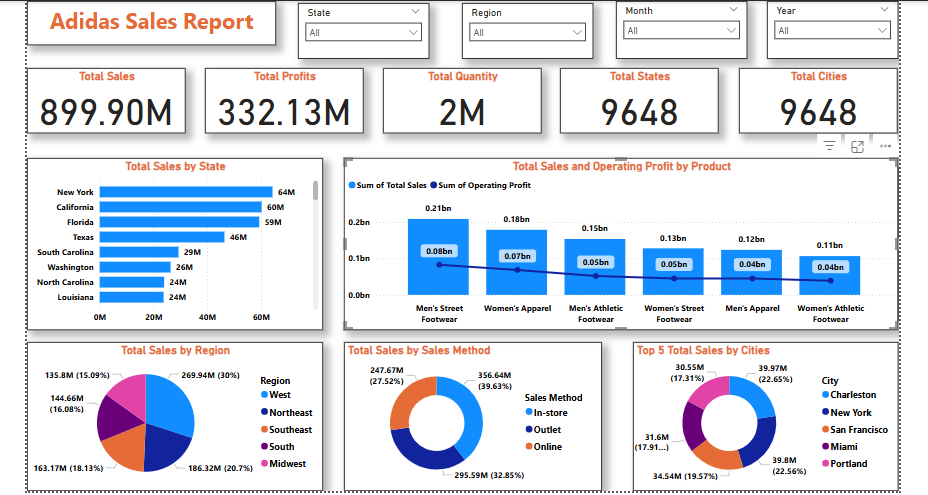

The dashboard page shown, as its layout file describes it:
{"tool":"powerbi","page":{"name":"Adidas Sales Report","canvas":[1280,720],"ordinal":0},"visuals":[{"type":"textbox","box":[0,0,365.8,64.8],"z":0},{"type":"slicer","fields":{"Values":["Table1.State"]},"box":[398.9,2.9,193,82.1],"z":1000},{"type":"slicer","fields":{"Values":["Table1.Region"]},"box":[639.4,2.9,193,82.1],"z":2000},{"type":"slicer","fields":{"Values":["Table1.Invoice Date.Variation.Date Hierarchy.Month"]},"box":[865.4,0,193,85],"z":3000},{"type":"slicer","fields":{"Values":["Table1.Invoice Date.Variation.Date Hierarchy.Year"]},"box":[1087.2,0,193,85],"z":4000},{"type":"card","title":"Total Sales","fields":{"Values":["Sum(Table1.Total Sales)"]},"box":[0,97.9,233.3,96.5],"z":5000},{"type":"card","title":"Total Profits","fields":{"Values":["Sum(Table1.Operating Profit)"]},"box":[262.1,97.9,233.3,96.5],"z":6000},{"type":"card","title":"Total Quantity","fields":{"Values":["Sum(Table1.Units Sold)"]},"box":[522.7,97.9,233.3,96.5],"z":7000},{"type":"card","title":"Total States","fields":{"Values":["CountNonNull(Table1.State)"]},"box":[783.4,97.9,233.3,96.5],"z":8000},{"type":"card","title":"Total Cities","fields":{"Values":["CountNonNull(Table1.City)"]},"box":[1046.9,97.9,233.3,96.5],"z":9000},{"type":"barChart","title":" Total Sales by State","fields":{"Y":["Sum(Table1.Total Sales)"],"Category":["Table1.State"]},"box":[0,230.4,434.9,253.4],"z":10000},{"type":"lineStackedColumnComboChart","title":"Total Sales and Operating Profit by Product","fields":{"Y":["Sum(Table1.Total Sales)"],"Category":["Table1.Product"],"Y2":["Sum(Table1.Operating Profit)"]},"box":[465.1,230.4,815,253.4],"z":11000},{"type":"pieChart","title":"Total Sales by Region","fields":{"Y":["Sum(Table1.Total Sales)"],"Category":["Table1.Region"]},"box":[0,501.1,434.9,218.9],"z":12000},{"type":"donutChart","title":"Total Sales by Sales Method","fields":{"Y":["Sum(Table1.Total Sales)"],"Category":["Table1.Sales Method"]},"box":[465.1,501.1,378.7,218.9],"z":13000},{"type":"donutChart","title":"Top 5 Total Sales by Cities ","fields":{"Y":["Sum(Table1.Total Sales)"],"Category":["Table1.City"]},"box":[889.9,501.1,390.2,218.9],"z":14000}]}

Visuals, with their boxes in screenshot pixels (x1, y1, x2, y2):
textbox: [27, 0, 275, 44]
slicer - Table1.State: [297, 2, 428, 58]
slicer - Table1.Region: [460, 2, 591, 58]
slicer - Table1.Invoice Date.Variation.Date Hierarchy.Month: [614, 0, 745, 58]
slicer - Table1.Invoice Date.Variation.Date Hierarchy.Year: [764, 0, 895, 58]
"Total Sales" card: [27, 66, 185, 132]
"Total Profits" card: [204, 66, 363, 132]
"Total Quantity" card: [381, 66, 540, 132]
"Total States" card: [558, 66, 716, 132]
"Total Cities" card: [737, 66, 895, 132]
" Total Sales by State" barChart: [27, 156, 322, 328]
"Total Sales and Operating Profit by Product" lineStackedColumnComboChart: [342, 156, 895, 328]
"Total Sales by Region" pieChart: [27, 340, 322, 489]
"Total Sales by Sales Method" donutChart: [342, 340, 599, 489]
"Top 5 Total Sales by Cities " donutChart: [630, 340, 895, 489]
